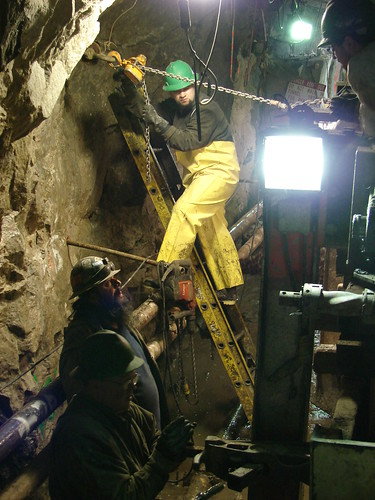person hardhat: (138, 56, 255, 311), (57, 333, 195, 500), (69, 249, 178, 459), (315, 3, 375, 143)
